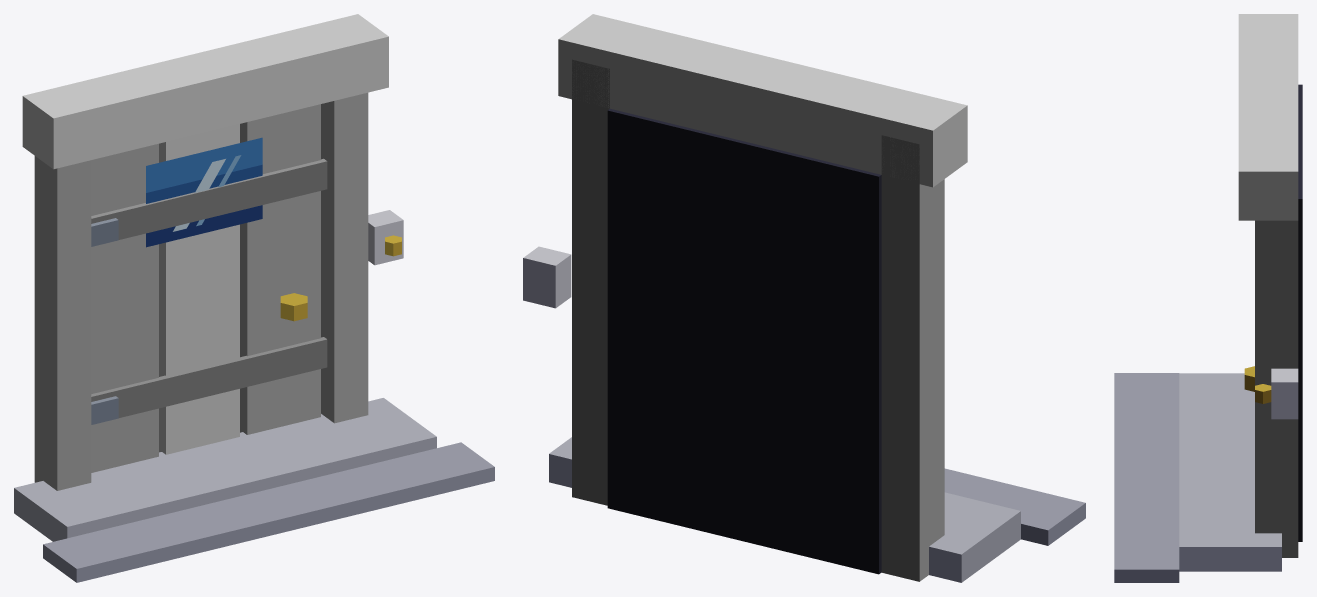
The model's file is bld_door.glb.
3 renders of one model, left to right at view 1: azimuth 30°, elevation 25°; view 2: azimuth 150°, elevation 25°; view 3: azimuth 270°, elevation 25°, orthographic. The views are drawn at different scales.
Visible parts, largest first — view 1: bld_door; view 2: bld_door; view 3: bld_door.
Part boxes in pixels (box(x1,y1,x2,y2)): bld_door: box(14, 14, 494, 582); bld_door: box(523, 14, 1085, 582); bld_door: box(1114, 14, 1302, 582).
Size of the model in its own units: 1.08 by 1 by 0.435.
